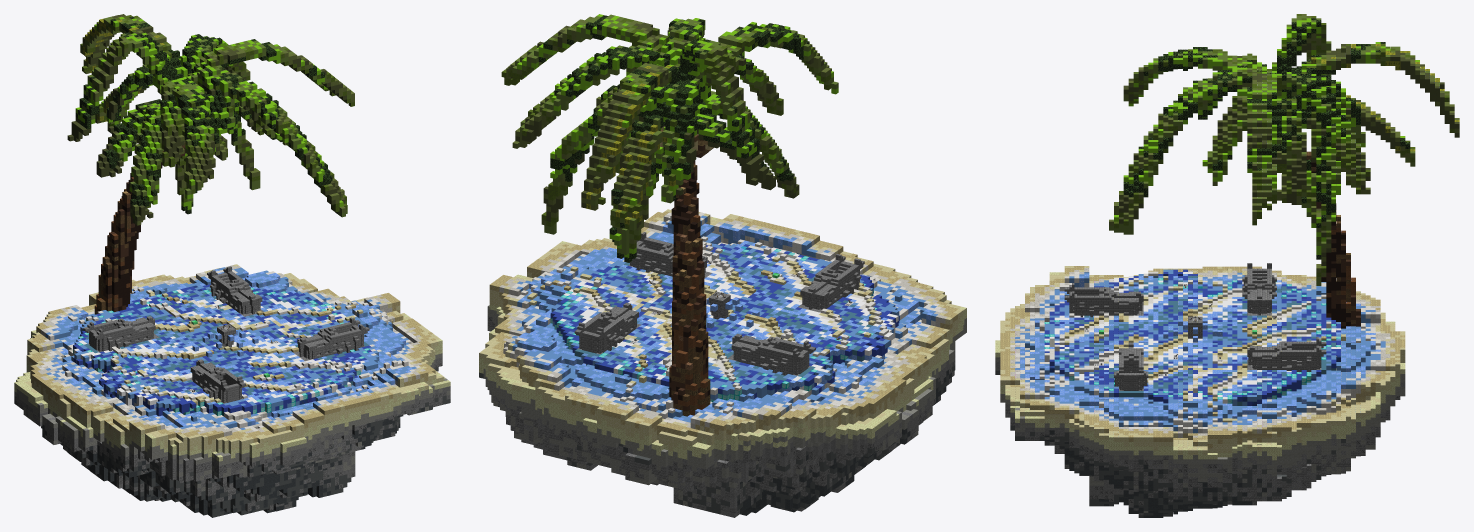
The model's file is mid.glb.
The picture shows the model from 3 angles, left to right: view 1: azimuth 30°, elevation 25°; view 2: azimuth 150°, elevation 25°; view 3: azimuth 270°, elevation 25°; orthographic projection. The views are drawn at different scales.
Parts seen in each view (by area): view 1: minecraft:andesite; view 2: minecraft:andesite; view 3: minecraft:andesite.
Boxes of the visible parts, bbox=[...] form: minecraft:andesite: bbox=[14, 14, 450, 517]; minecraft:andesite: bbox=[479, 14, 966, 517]; minecraft:andesite: bbox=[995, 14, 1459, 517].
Size of the model in its own units: 88 by 102 by 94.
Materials: 53 (53 with a texture image).
